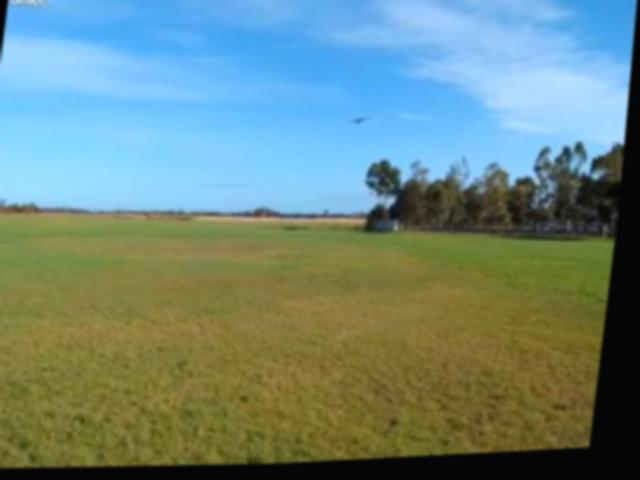uav: (346, 111, 378, 136)
